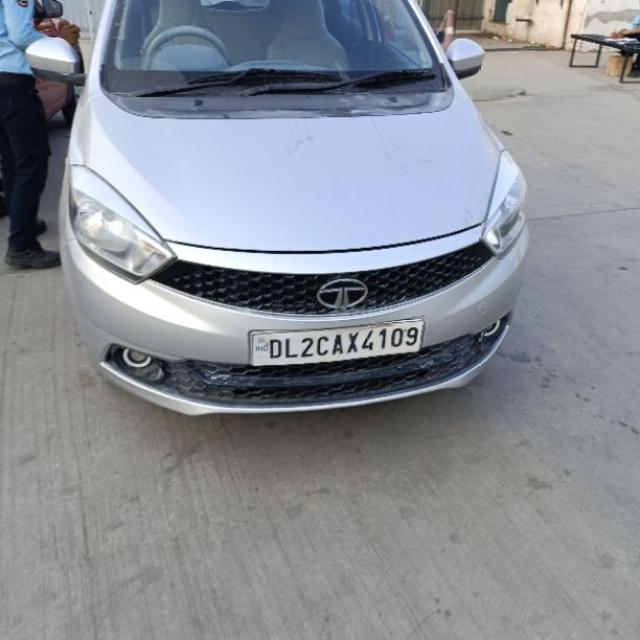license_plate: (246, 317, 424, 366)
